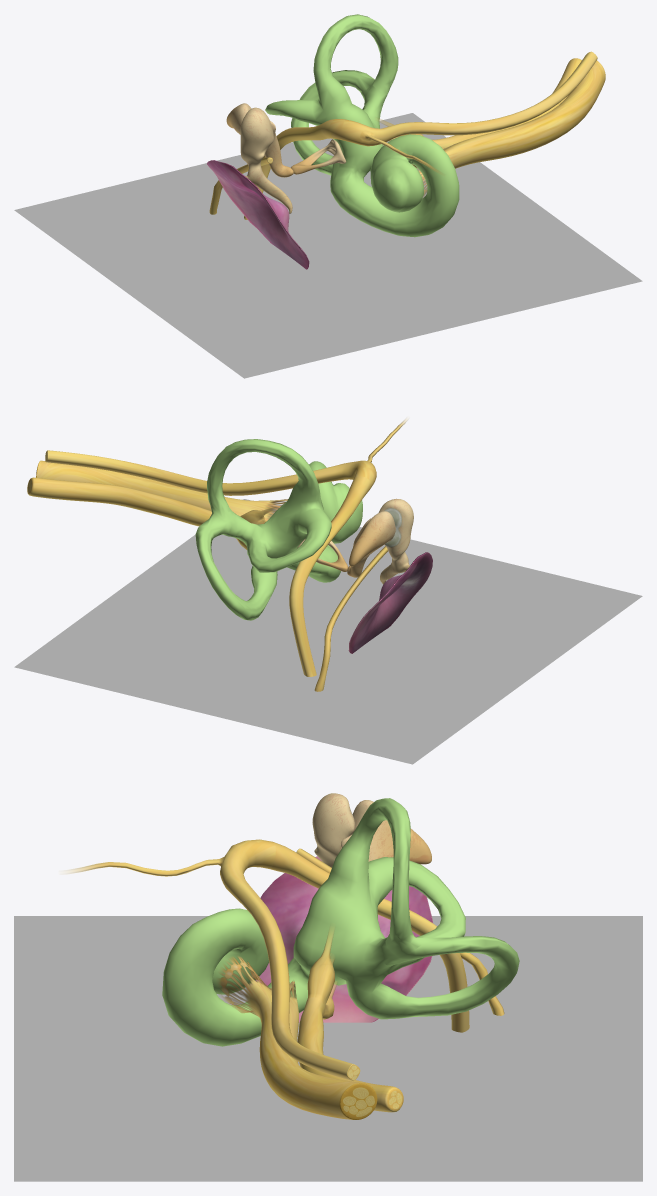
File: anatomy_of_the_inner_ear.glb
The picture shows the model from 3 angles, top to bottom: view 1: azimuth 30°, elevation 25°; view 2: azimuth 150°, elevation 25°; view 3: azimuth 270°, elevation 25°; orthographic projection. The views are drawn at different scales.
Visible parts, largest first — view 1: Object_8, Object_10, Object_5, Object_11, Object_6, Object_7, Object_4, Object_9, Object_3; view 2: Object_8, Object_10, Object_5, Object_9, Object_11, Object_6, Object_7, Object_4; view 3: Object_8, Object_10, Object_5, Object_11, Object_6, Object_9, Object_7, Object_4.
Boxes of the visible parts, left/top/right/bottom form: Object_8: left=14, top=113, right=642, bottom=378; Object_10: left=265, top=14, right=459, bottom=237; Object_5: left=209, top=51, right=597, bottom=219; Object_11: left=412, top=60, right=605, bottom=196; Object_6: left=207, top=160, right=309, bottom=269; Object_7: left=240, top=107, right=292, bottom=213; Object_4: left=226, top=103, right=293, bottom=177; Object_9: left=377, top=58, right=581, bottom=148; Object_3: left=291, top=139, right=346, bottom=174; Object_8: left=14, top=499, right=642, bottom=764; Object_10: left=195, top=439, right=362, bottom=620; Object_5: left=46, top=419, right=407, bottom=691; Object_9: left=27, top=477, right=276, bottom=549; Object_11: left=36, top=460, right=287, bottom=522; Object_6: left=348, top=552, right=432, bottom=653; Object_7: left=378, top=498, right=413, bottom=584; Object_4: left=347, top=511, right=395, bottom=577; Object_8: left=14, top=916, right=642, bottom=1181; Object_10: left=162, top=798, right=519, bottom=1046; Object_5: left=66, top=839, right=504, bottom=1080; Object_11: left=217, top=956, right=377, bottom=1119; Object_6: left=250, top=856, right=432, bottom=1022; Object_9: left=297, top=928, right=403, bottom=1112; Object_7: left=312, top=793, right=354, bottom=867; Object_4: left=341, top=800, right=431, bottom=864.
Bounding box in the file's own units: 17.52 × 9.25 × 14.52.
Materials: 10 (9 with a texture image).
